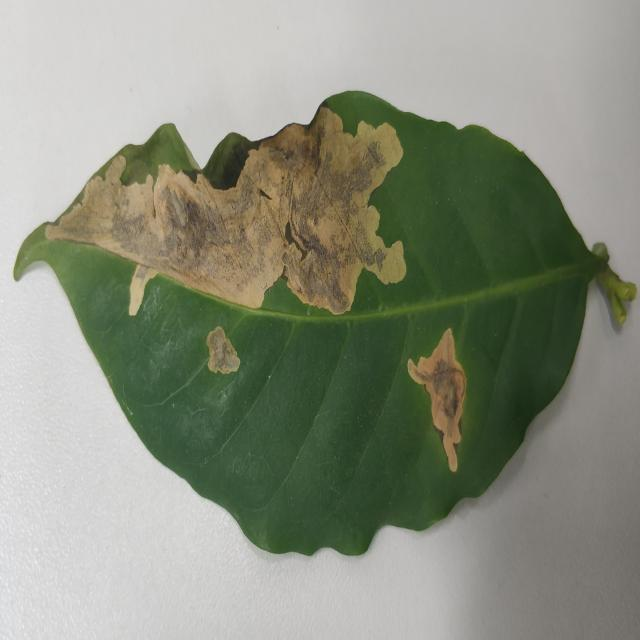Plaga-Minador: (12, 91, 637, 560)
